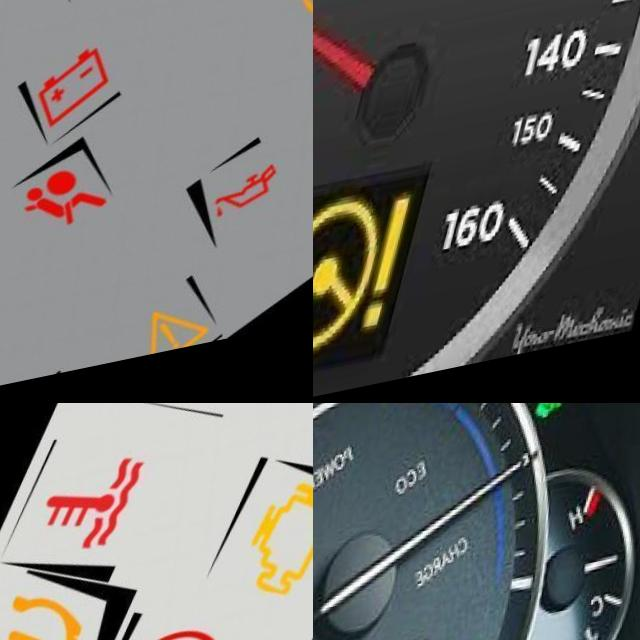Electronic Power Steering: (313, 198, 422, 368)
